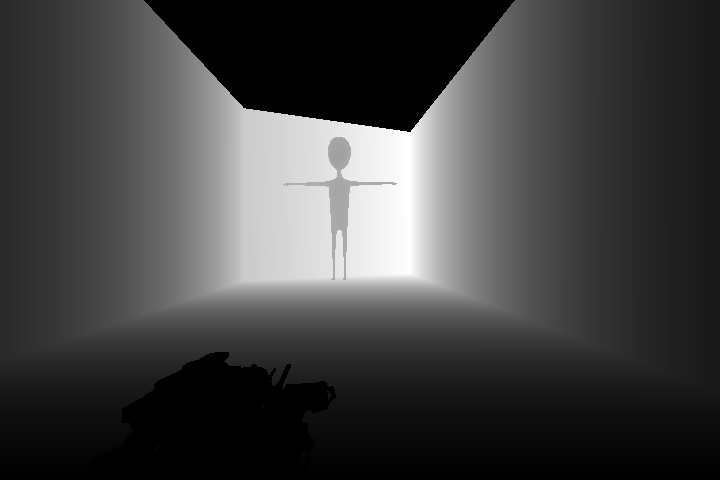alien: (281, 135, 401, 282)
